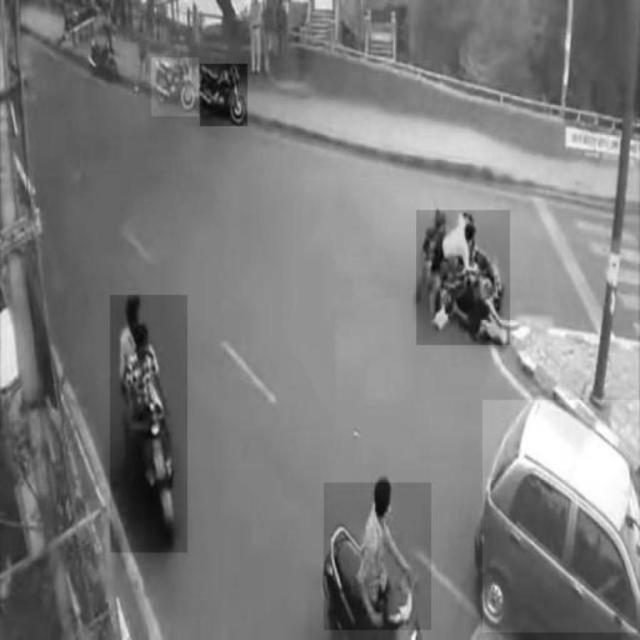accident: (417, 211, 510, 345)
vehicle: (483, 400, 640, 633), (110, 295, 187, 553), (324, 483, 432, 630), (200, 65, 248, 127), (152, 58, 199, 116)
